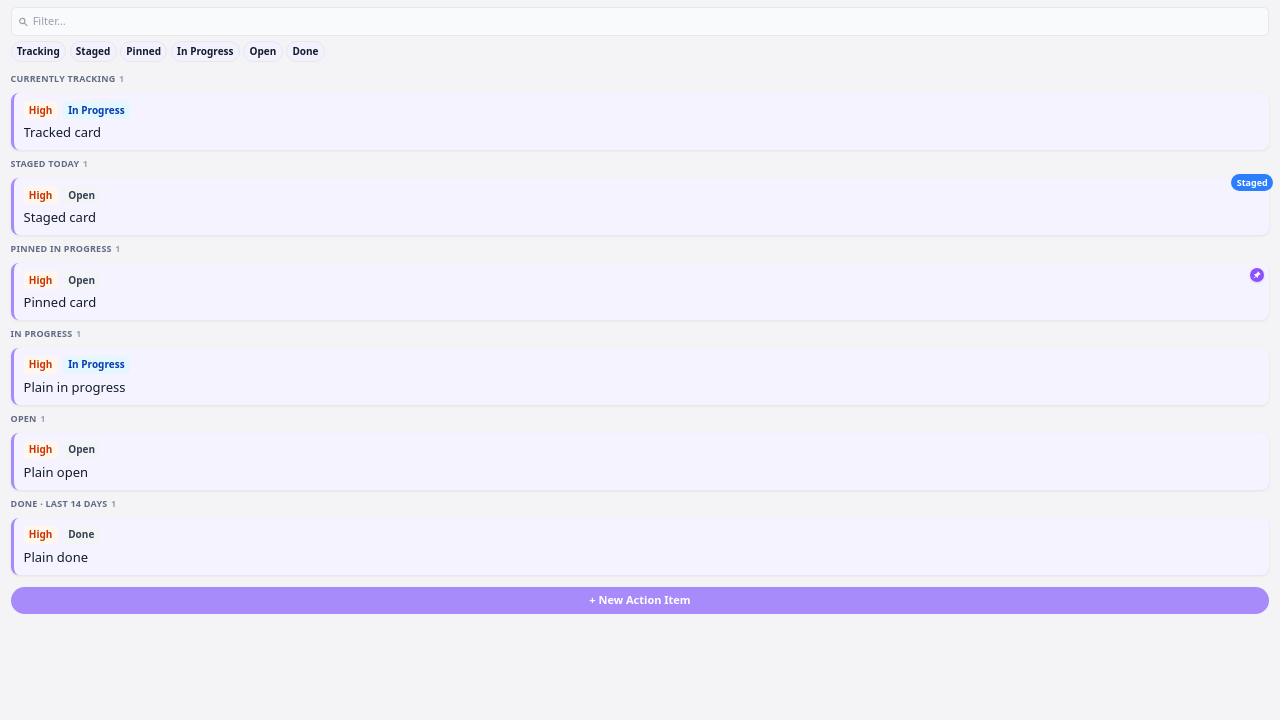
Scenario: action items sidebar filter flags › narrows to one flag and back
Expected: the text "Tracked card" is shown, 24,123 -> 101,141
Click the button "Staged". click: (93, 52)
box: 70,41 -> 117,62
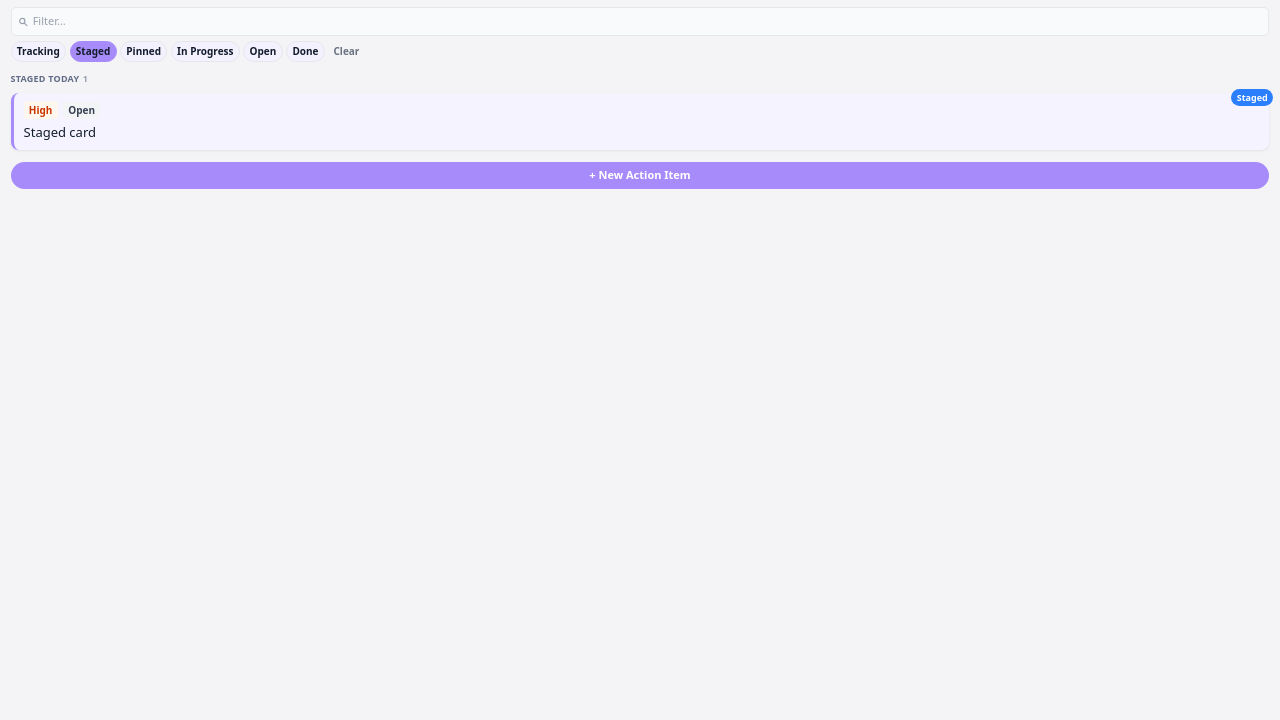
Expected: the text "Staged card" is shown, 24,123 -> 96,141
Expected: the text "Tracked card" is gone
Expected: the text "Plain open" is gone
Click the button "Staged". click: (93, 52)
box: 70,41 -> 117,62
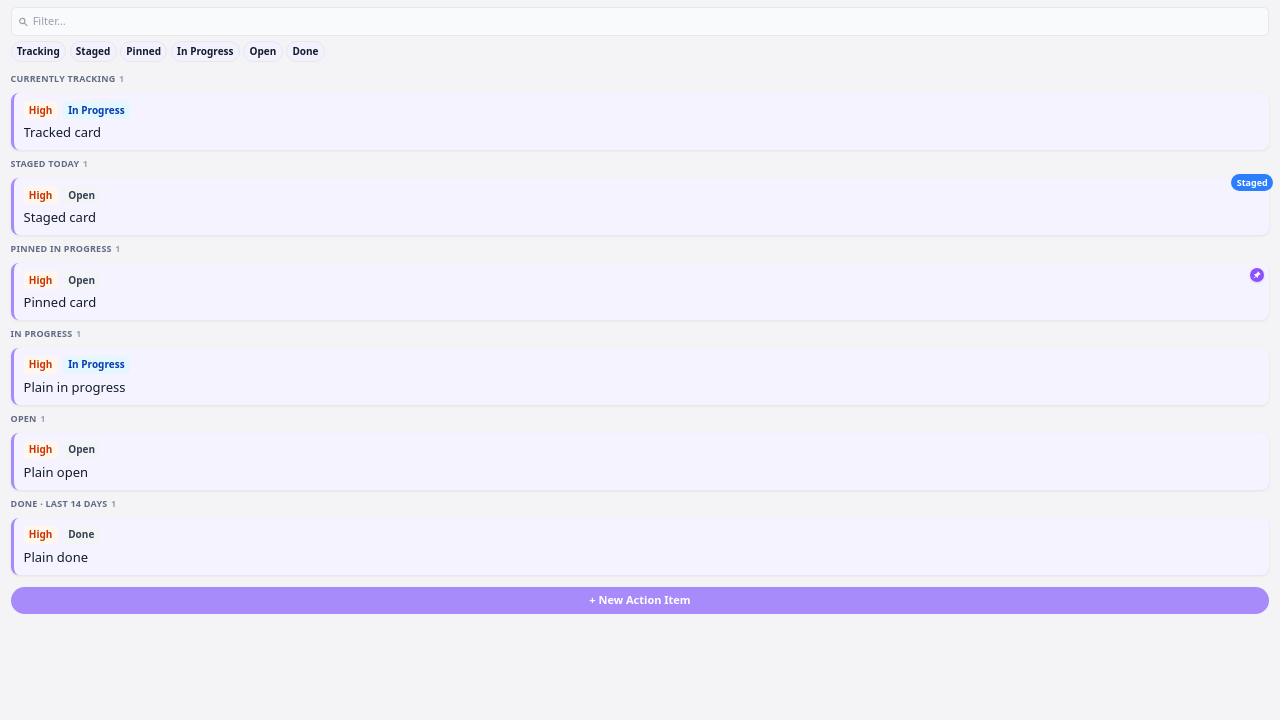
Expected: the text "Tracked card" is shown, 24,123 -> 101,141
